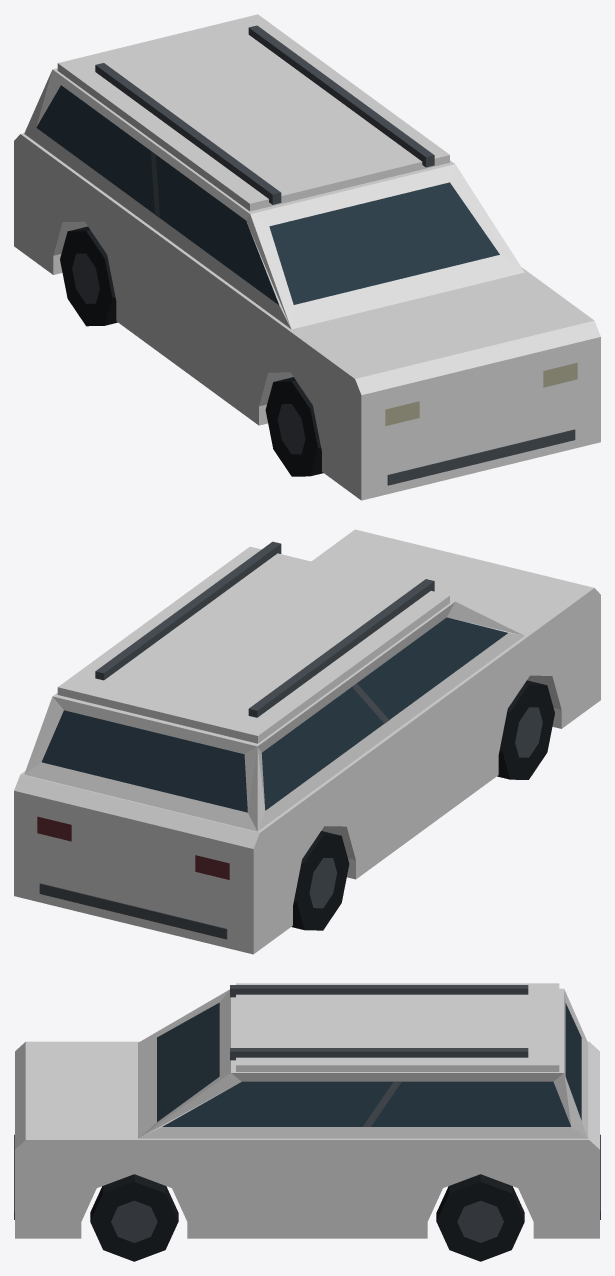
Rendered from suv.glb.
3 views of the same model, one above another, from view 1: azimuth 30°, elevation 25°; view 2: azimuth 150°, elevation 25°; view 3: azimuth 270°, elevation 25° (orthographic). The views are drawn at different scales.
Parts seen in each view (by area): view 1: vehicle_body; view 2: vehicle_body; view 3: vehicle_body.
Boxes of the visible parts, box(x1,y1,x2,y2) form: vehicle_body: box(14, 14, 600, 500); vehicle_body: box(14, 529, 600, 954); vehicle_body: box(14, 983, 600, 1261).
Bounding box in the file's own units: 1.95 × 1.8 × 4.92.
